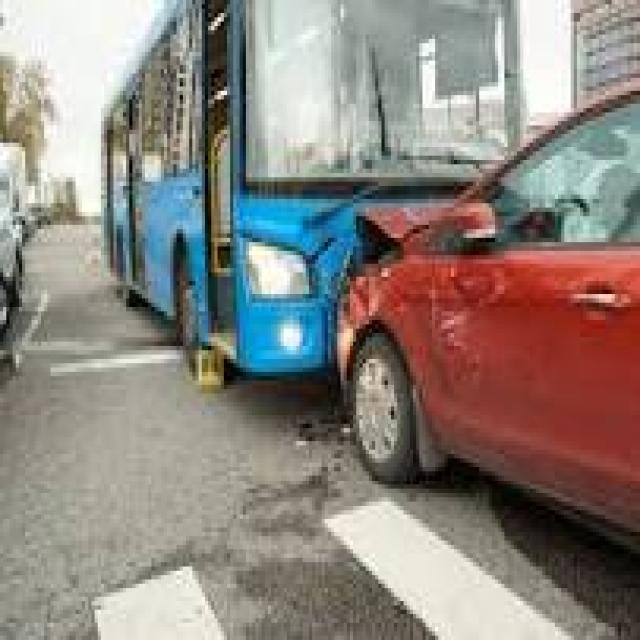Accident: (94, 0, 640, 549)
